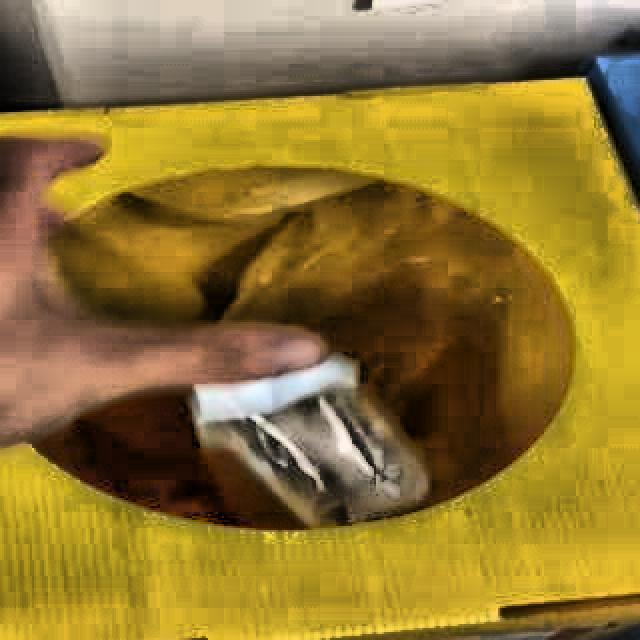plastic: (189, 354, 427, 527)
